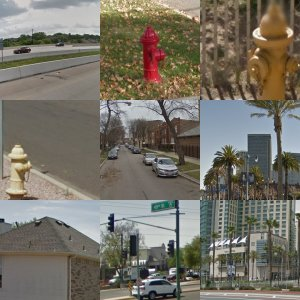公車: (216, 20, 298, 100), (23, 103, 99, 169), (100, 13, 178, 64)
汽車: (266, 151, 299, 186), (149, 137, 185, 169), (222, 144, 252, 175), (63, 59, 88, 79), (4, 66, 29, 85), (211, 258, 233, 275)
紅綠燈: (58, 28, 98, 44)
